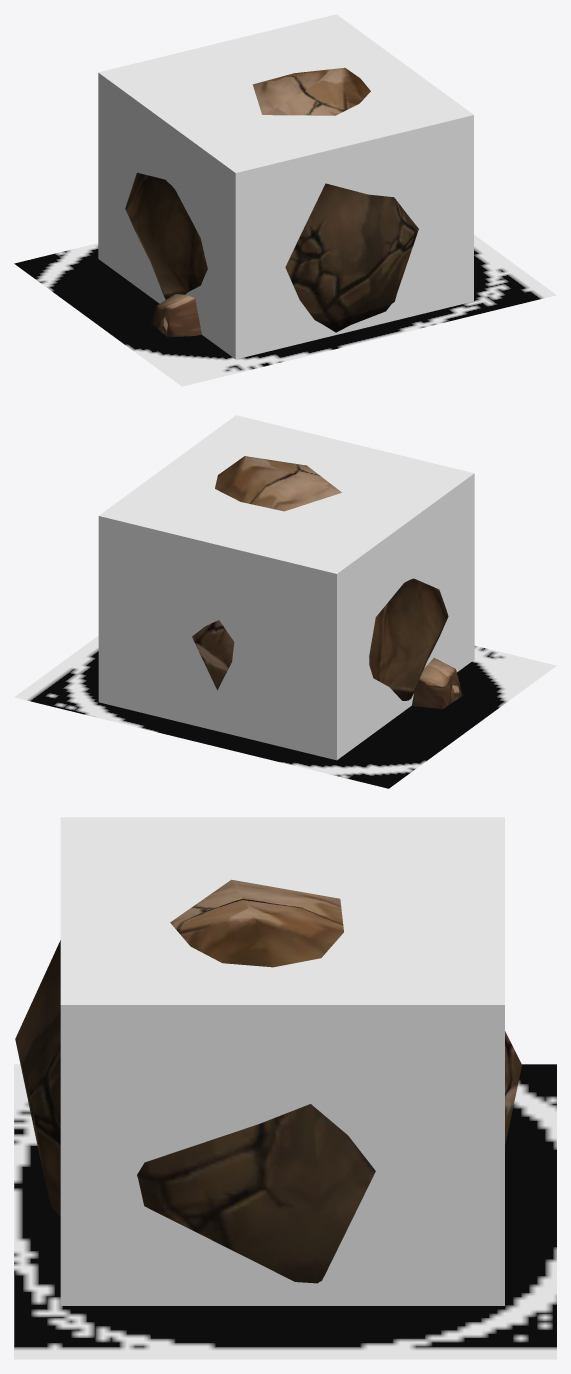
File: Gimmick_Dungeon_BreakStone001.fbx
3 views of the same model, one above another, from view 1: azimuth 30°, elevation 25°; view 2: azimuth 150°, elevation 25°; view 3: azimuth 270°, elevation 25° (orthographic). The views are drawn at different scales.
Visible parts, largest first — view 1: RaderMask, Dungeon_BreakStorn001, gimmick_shadow; view 2: RaderMask, gimmick_shadow, Dungeon_BreakStorn001; view 3: RaderMask, gimmick_shadow, Dungeon_BreakStorn001.
Boxes of the visible parts, x1,y1,x2,y2 form: RaderMask: [98, 14, 473, 359]; Dungeon_BreakStorn001: [125, 67, 418, 337]; gimmick_shadow: [14, 235, 556, 386]; RaderMask: [98, 415, 474, 760]; gimmick_shadow: [14, 635, 556, 788]; Dungeon_BreakStorn001: [192, 456, 462, 709]; RaderMask: [60, 817, 504, 1305]; gimmick_shadow: [14, 1064, 556, 1359]; Dungeon_BreakStorn001: [15, 879, 521, 1283].
Size of the model in its own units: 3.15 by 1.77 by 2.44.
